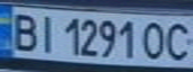1: (115, 17, 142, 60), (57, 15, 81, 56)
2: (78, 15, 100, 58)
9: (97, 16, 118, 58)
B: (6, 10, 42, 52)
C: (163, 19, 193, 62)
I: (33, 11, 60, 54)
O: (139, 19, 172, 61)
